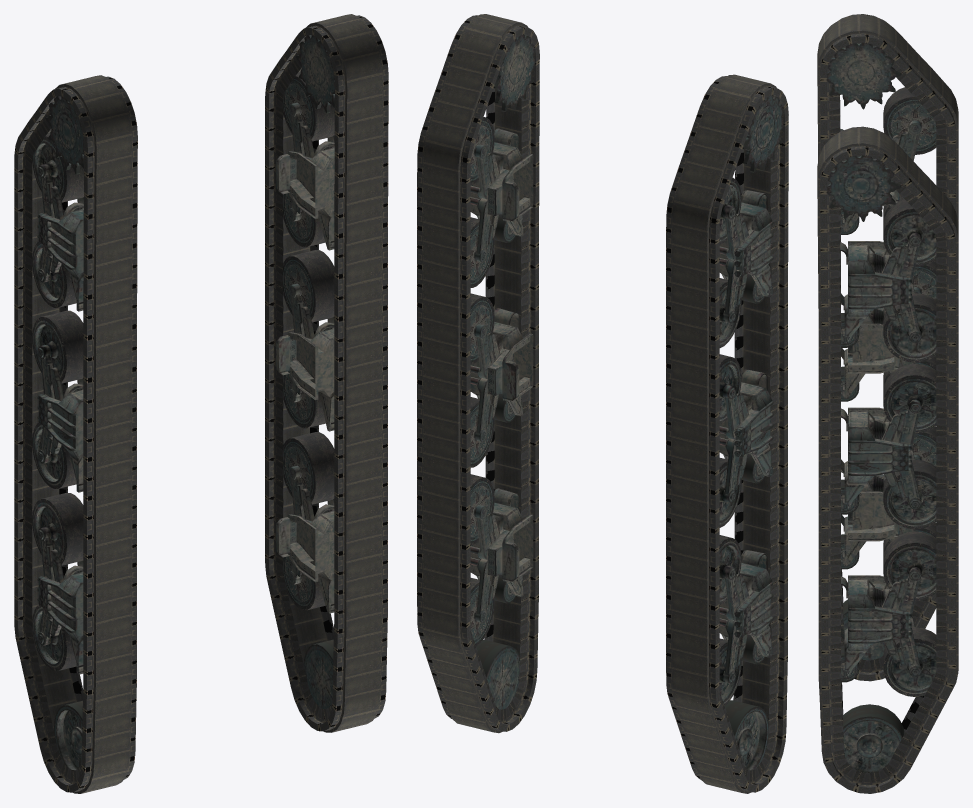
Rendered from Chassis.glb.
3 renders of one model, left to right at view 1: azimuth 30°, elevation 25°; view 2: azimuth 150°, elevation 25°; view 3: azimuth 270°, elevation 25°, orthographic. The views are drawn at different scales.
Parts seen in each view (by area): view 1: set_0_group_0, set_1_group_0, set_3_group_0, set_2_group_0; view 2: set_0_group_0, set_1_group_0, set_3_group_0, set_2_group_0; view 3: set_3_group_0, set_1_group_0, set_2_group_0, set_0_group_0.
Boxes of the visible parts, left/top/right/bottom form: set_0_group_0: left=14, top=75, right=137, bottom=793; set_1_group_0: left=265, top=14, right=388, bottom=732; set_3_group_0: left=276, top=35, right=334, bottom=708; set_2_group_0: left=32, top=96, right=83, bottom=770; set_0_group_0: left=666, top=74, right=788, bottom=793; set_1_group_0: left=417, top=14, right=539, bottom=733; set_3_group_0: left=470, top=34, right=534, bottom=709; set_2_group_0: left=719, top=95, right=783, bottom=770; set_3_group_0: left=827, top=155, right=936, bottom=772; set_1_group_0: left=817, top=126, right=958, bottom=793; set_2_group_0: left=827, top=42, right=936, bottom=660; set_0_group_0: left=817, top=14, right=958, bottom=681.
Size of the model in its own units: 2.55 by 5.67 by 1.12.
4 materials, 4 textured.
